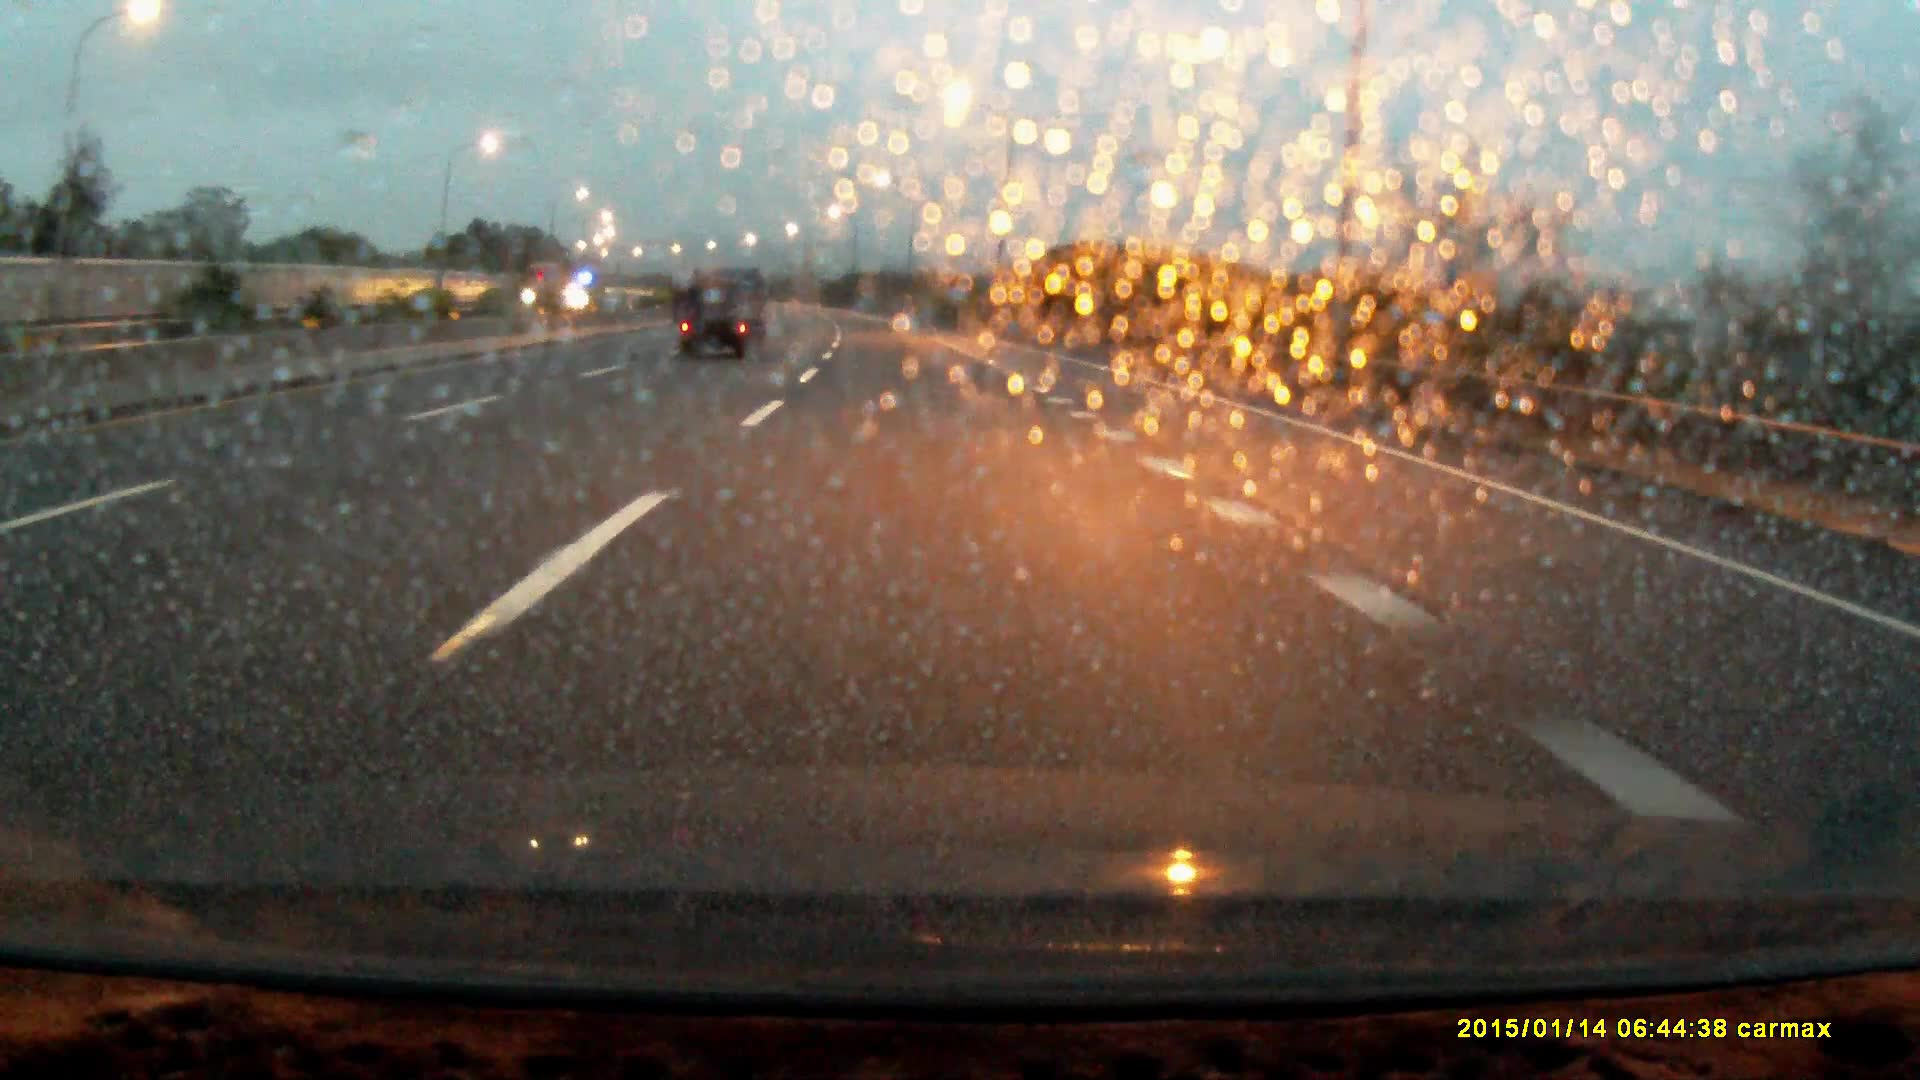vehicle: (679, 265, 765, 361), (516, 262, 574, 311)
